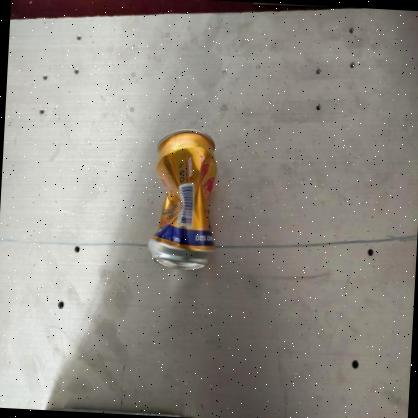can: (142, 125, 218, 270)
